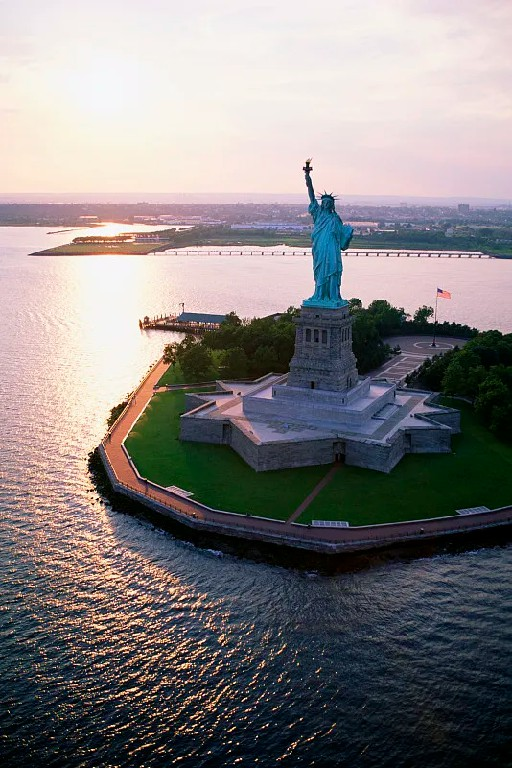SL: (286, 158, 359, 394)
